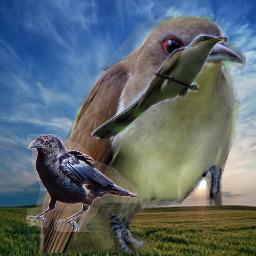Crow: (26, 134, 138, 232)
Cuckoo: (40, 16, 246, 253), (91, 33, 227, 139)
